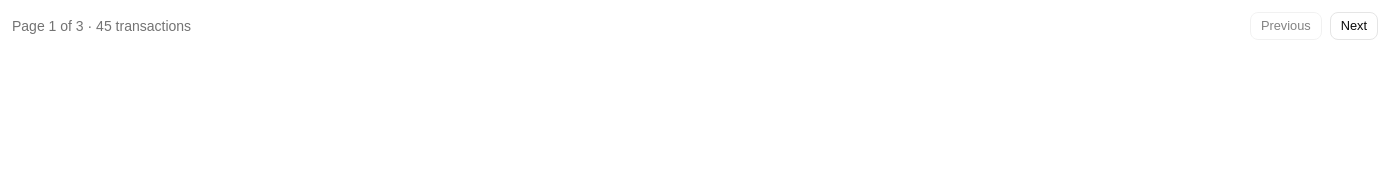
Test: TransactionsPagination › disables Previous on the first page and advances with Next
This screenshot has width=1390, height=172.
Expected: the text "Page 1 of 3 · 45 transactions" is shown, [12, 16, 191, 36]
Expected: the button "Previous" is disabled, [1250, 12, 1322, 40]
Click the button "Next".
click(1354, 26)  # box [1330, 12, 1378, 40]
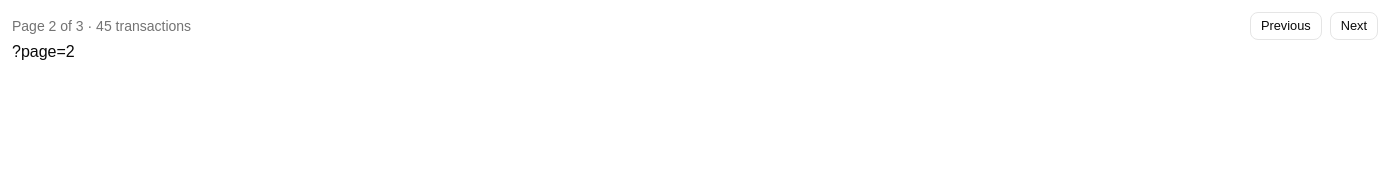
Expected: the text with test id "search" shows "page=2", [12, 43, 75, 60]
